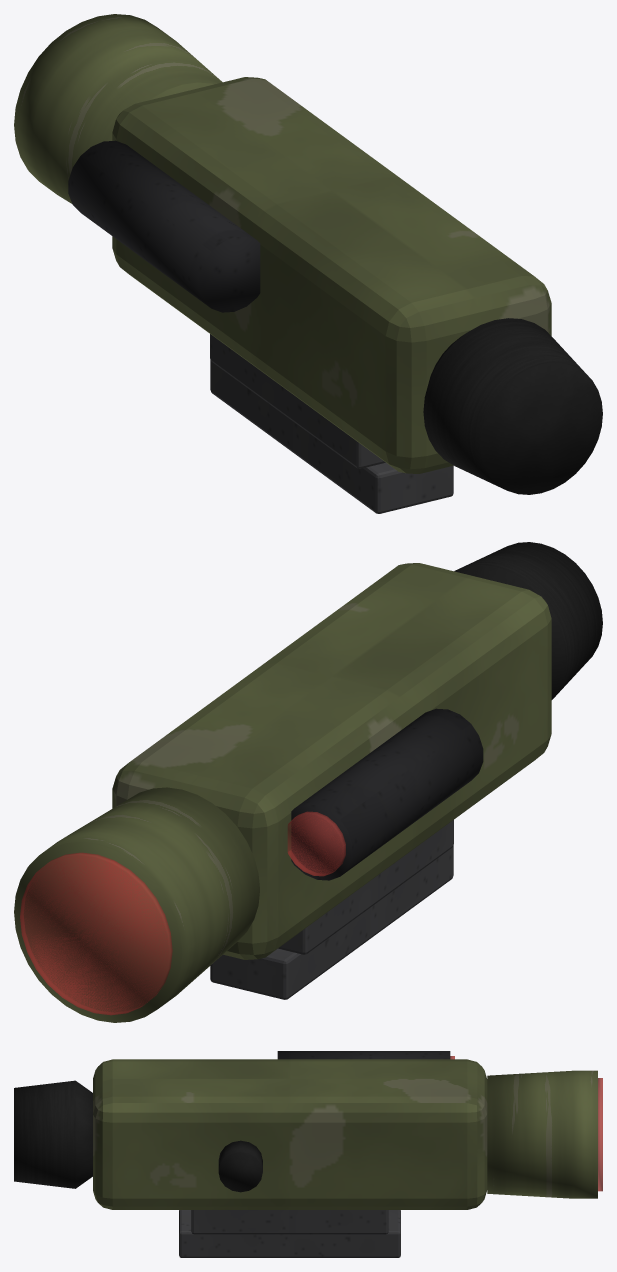
The model's file is scope_night.glb.
3 views of the same model, one above another, from view 1: azimuth 30°, elevation 25°; view 2: azimuth 150°, elevation 25°; view 3: azimuth 270°, elevation 25° (orthographic). The views are drawn at different scales.
Visible parts, largest first — view 1: body, eye, obj, ir, base, riser; view 2: body, obj, lens_f, ir, eye, base, riser, ir_lens; view 3: body, obj, eye, base, riser, knob, ir, lens_f.
Boxes of the visible parts, box(x1,y1,x2,y2) form: body: box(112, 77, 551, 473); eye: box(423, 318, 602, 494); obj: box(14, 14, 222, 203); ir: box(68, 140, 260, 312); base: box(210, 360, 453, 513); riser: box(210, 334, 385, 468); body: box(112, 563, 551, 959); obj: box(14, 787, 259, 1022); lens_f: box(20, 852, 172, 1015); ir: box(291, 708, 483, 880); eye: box(454, 542, 602, 699); base: box(210, 845, 453, 999); riser: box(278, 820, 453, 954); ir_lens: box(287, 811, 345, 876); body: box(93, 1059, 487, 1209); obj: box(487, 1070, 597, 1198); eye: box(14, 1080, 92, 1188); base: box(179, 1210, 400, 1257); riser: box(191, 1210, 388, 1234); knob: box(218, 1140, 262, 1192); ir: box(277, 1051, 450, 1059); lens_f: box(598, 1078, 602, 1191).
Bounding box in the file's own units: 0.0798 × 0.076 × 0.239.
5 materials, 4 textured.
